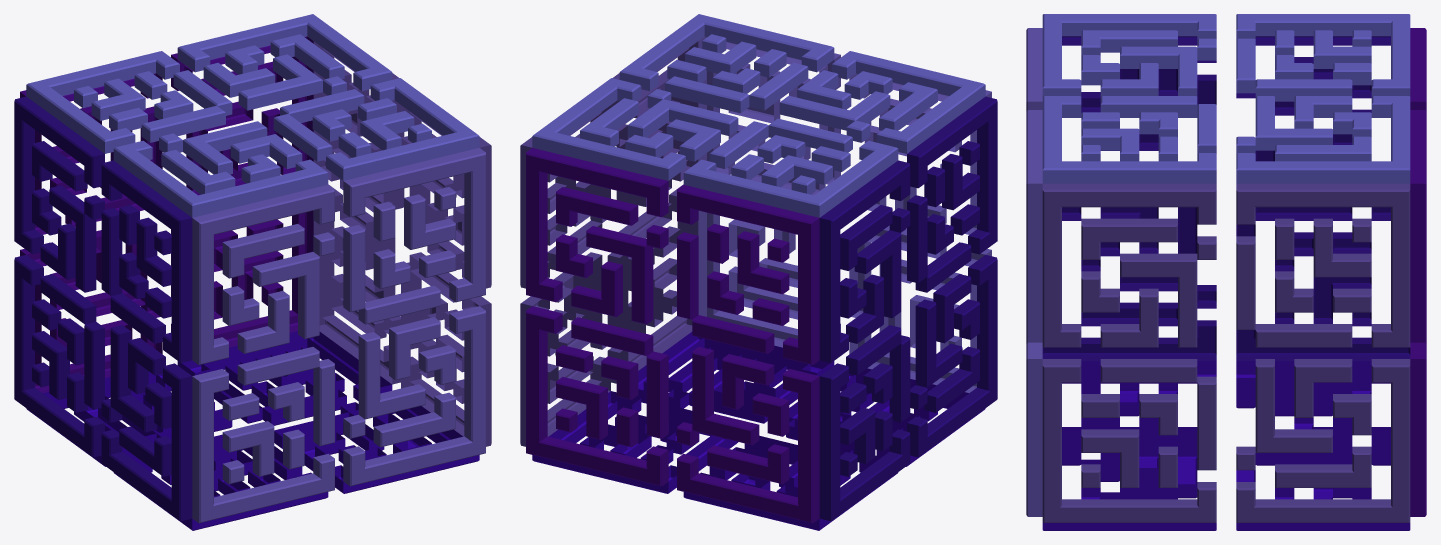
Rendered from L2_V3_Sides (1).fbx.
3 views of the same model, side by side, from view 1: azimuth 30°, elevation 25°; view 2: azimuth 150°, elevation 25°; view 3: azimuth 270°, elevation 25° (orthographic). The views are drawn at different scales.
Visible parts, largest first — view 1: Sides_Combined; view 2: Sides_Combined; view 3: Sides_Combined.
Boxes of the visible parts, box(x1,y1,x2,y2) form: Sides_Combined: box(14, 14, 491, 530); Sides_Combined: box(520, 14, 997, 530); Sides_Combined: box(1026, 14, 1426, 530).
Bounding box in the file's own units: 62.03 × 62.03 × 62.03.
Materials: 1 (1 with a texture image).
